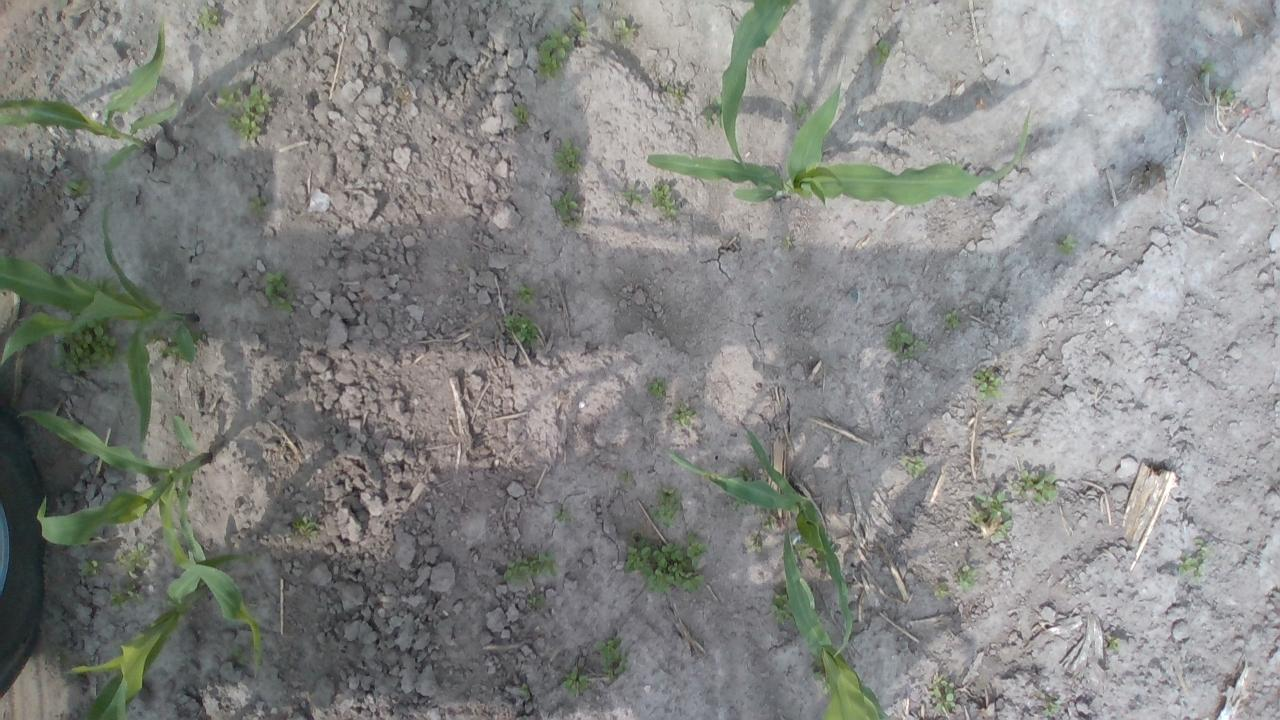Maize: (5, 184, 204, 450), (642, 80, 1032, 209), (663, 419, 855, 658), (16, 400, 219, 574), (62, 562, 265, 717), (0, 14, 184, 175), (779, 530, 900, 718), (717, 0, 800, 169)
Weeds: (621, 538, 713, 590), (49, 322, 121, 378), (536, 12, 588, 84), (212, 87, 274, 139), (1196, 56, 1244, 108), (107, 547, 149, 605), (507, 288, 543, 346), (503, 552, 554, 590), (972, 492, 1011, 538), (1166, 544, 1216, 578), (1016, 466, 1059, 503), (641, 178, 680, 215), (932, 564, 975, 596), (886, 324, 920, 364), (596, 640, 626, 682), (655, 485, 681, 530), (190, 3, 224, 36), (971, 368, 1004, 402), (726, 464, 751, 504), (263, 270, 291, 305), (556, 193, 585, 224), (552, 142, 580, 170), (563, 671, 590, 700), (658, 72, 690, 96), (770, 584, 790, 622), (610, 16, 638, 42), (930, 682, 954, 708), (671, 410, 698, 430), (642, 380, 668, 398), (897, 458, 925, 474), (940, 310, 960, 332), (296, 516, 316, 537), (1040, 701, 1066, 716), (512, 102, 530, 122), (1060, 233, 1076, 252), (1106, 637, 1120, 657)
